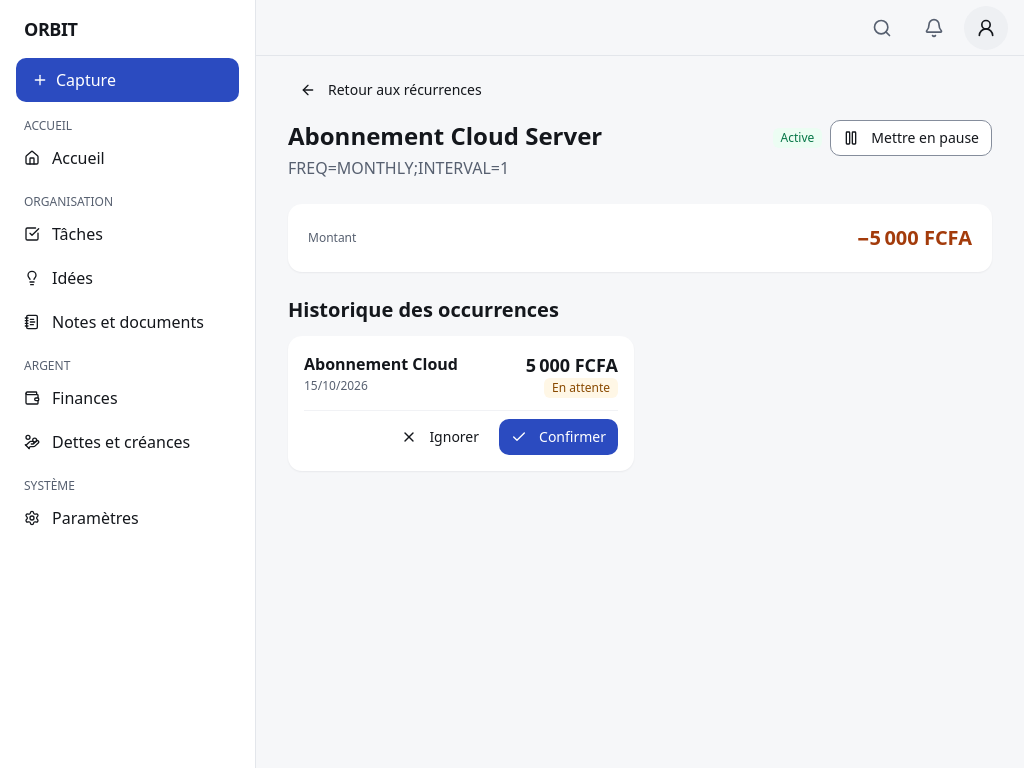
Test: Finance - Récurrences (/finance/recurring) › displays recurring detail and pauses/resumes recurring transaction
expect the heading "Abonnement Cloud Server" is shown: met, box [288,120,602,152]
Click the button "Mettre en pause": click(911, 138) [830,120,992,156]
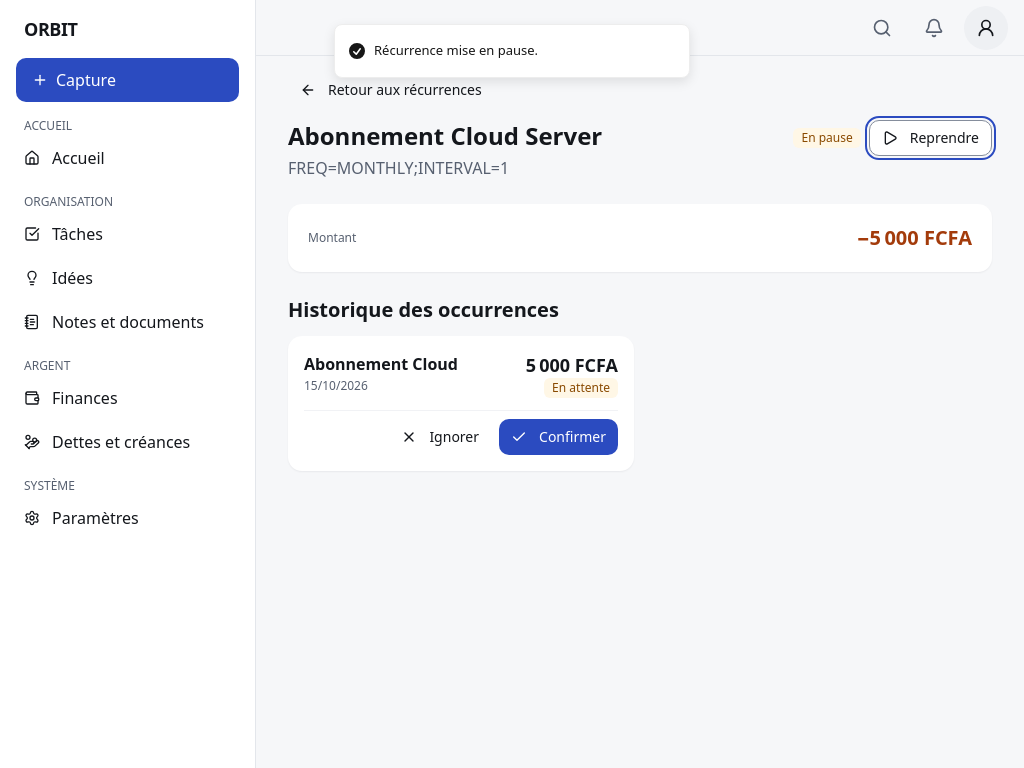
expect the button "Reprendre" is shown: met
Click the button "Reprendre": click(930, 138) [869,120,992,156]
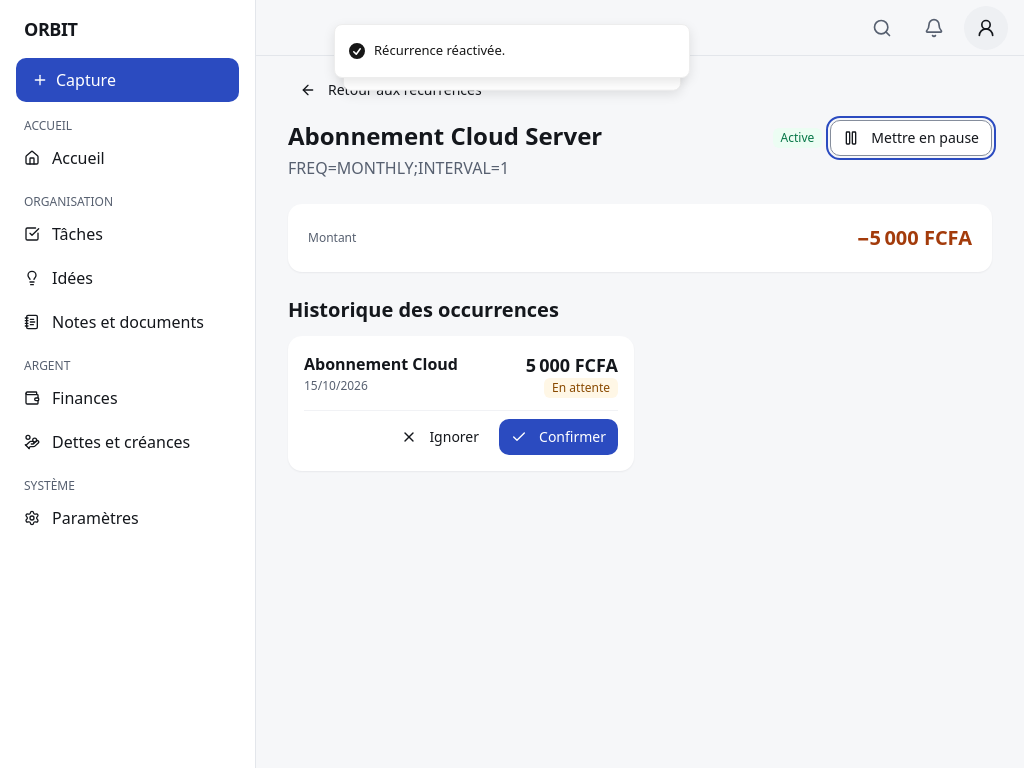
expect the button "Mettre en pause" is shown: met, box [830,120,992,156]
